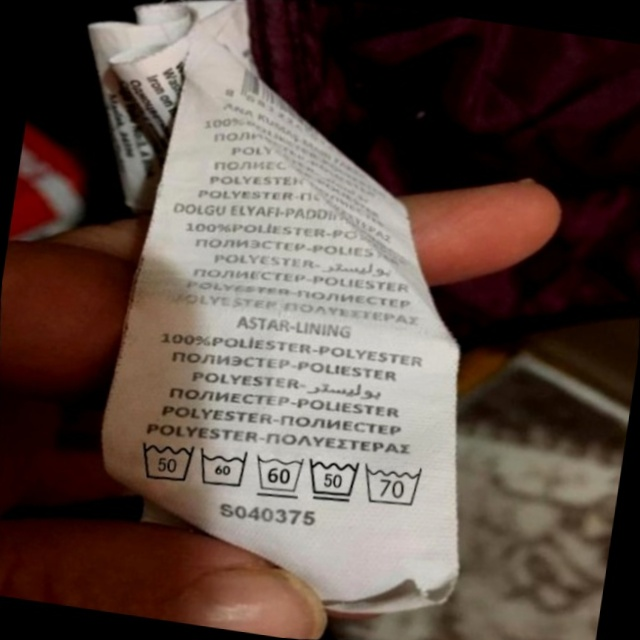50C: (129, 427, 205, 494), (299, 448, 369, 512)
60C: (248, 443, 314, 506), (191, 438, 258, 499)
70C: (358, 454, 435, 516)
